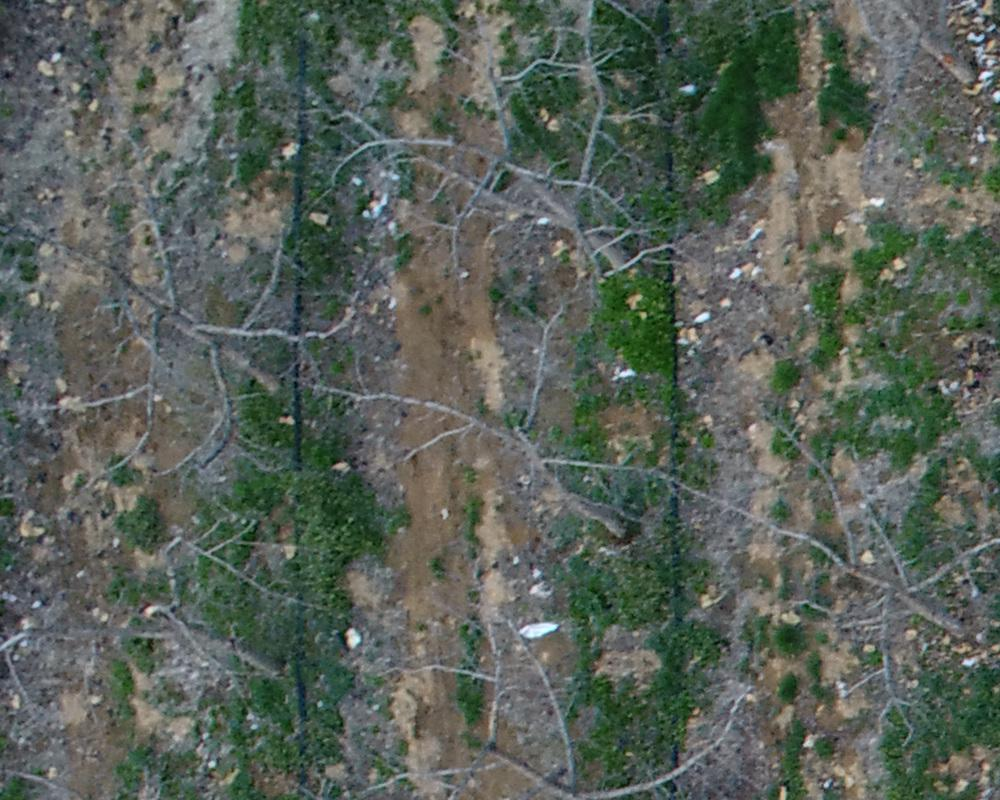apple: (29, 130, 388, 503), (642, 398, 990, 758), (324, 15, 741, 314), (291, 305, 698, 570), (361, 558, 759, 790), (10, 521, 345, 736)
